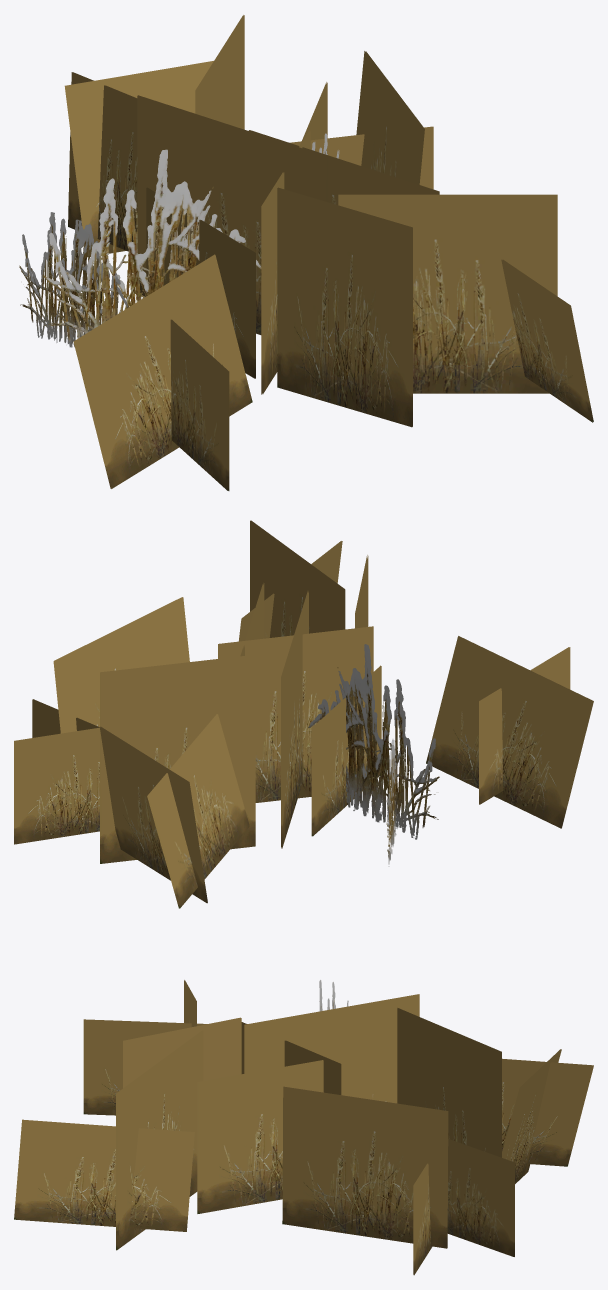
File: DN_grass03a.FBX
3 renders of one model, top to bottom at view 1: azimuth 30°, elevation 25°; view 2: azimuth 150°, elevation 25°; view 3: azimuth 270°, elevation 25°, orthographic. The views are drawn at different scales.
Visible parts, largest first — view 1: DN_grass03a; view 2: DN_grass03a; view 3: DN_grass03a.
Boxes of the visible parts, left/top/right/bottom form: DN_grass03a: left=19, top=15, right=593, bottom=490; DN_grass03a: left=14, top=520, right=593, bottom=908; DN_grass03a: left=14, top=980, right=593, bottom=1275.
Size of the model in its own units: 100 by 46.7 by 126.
2 materials, 2 textured.
